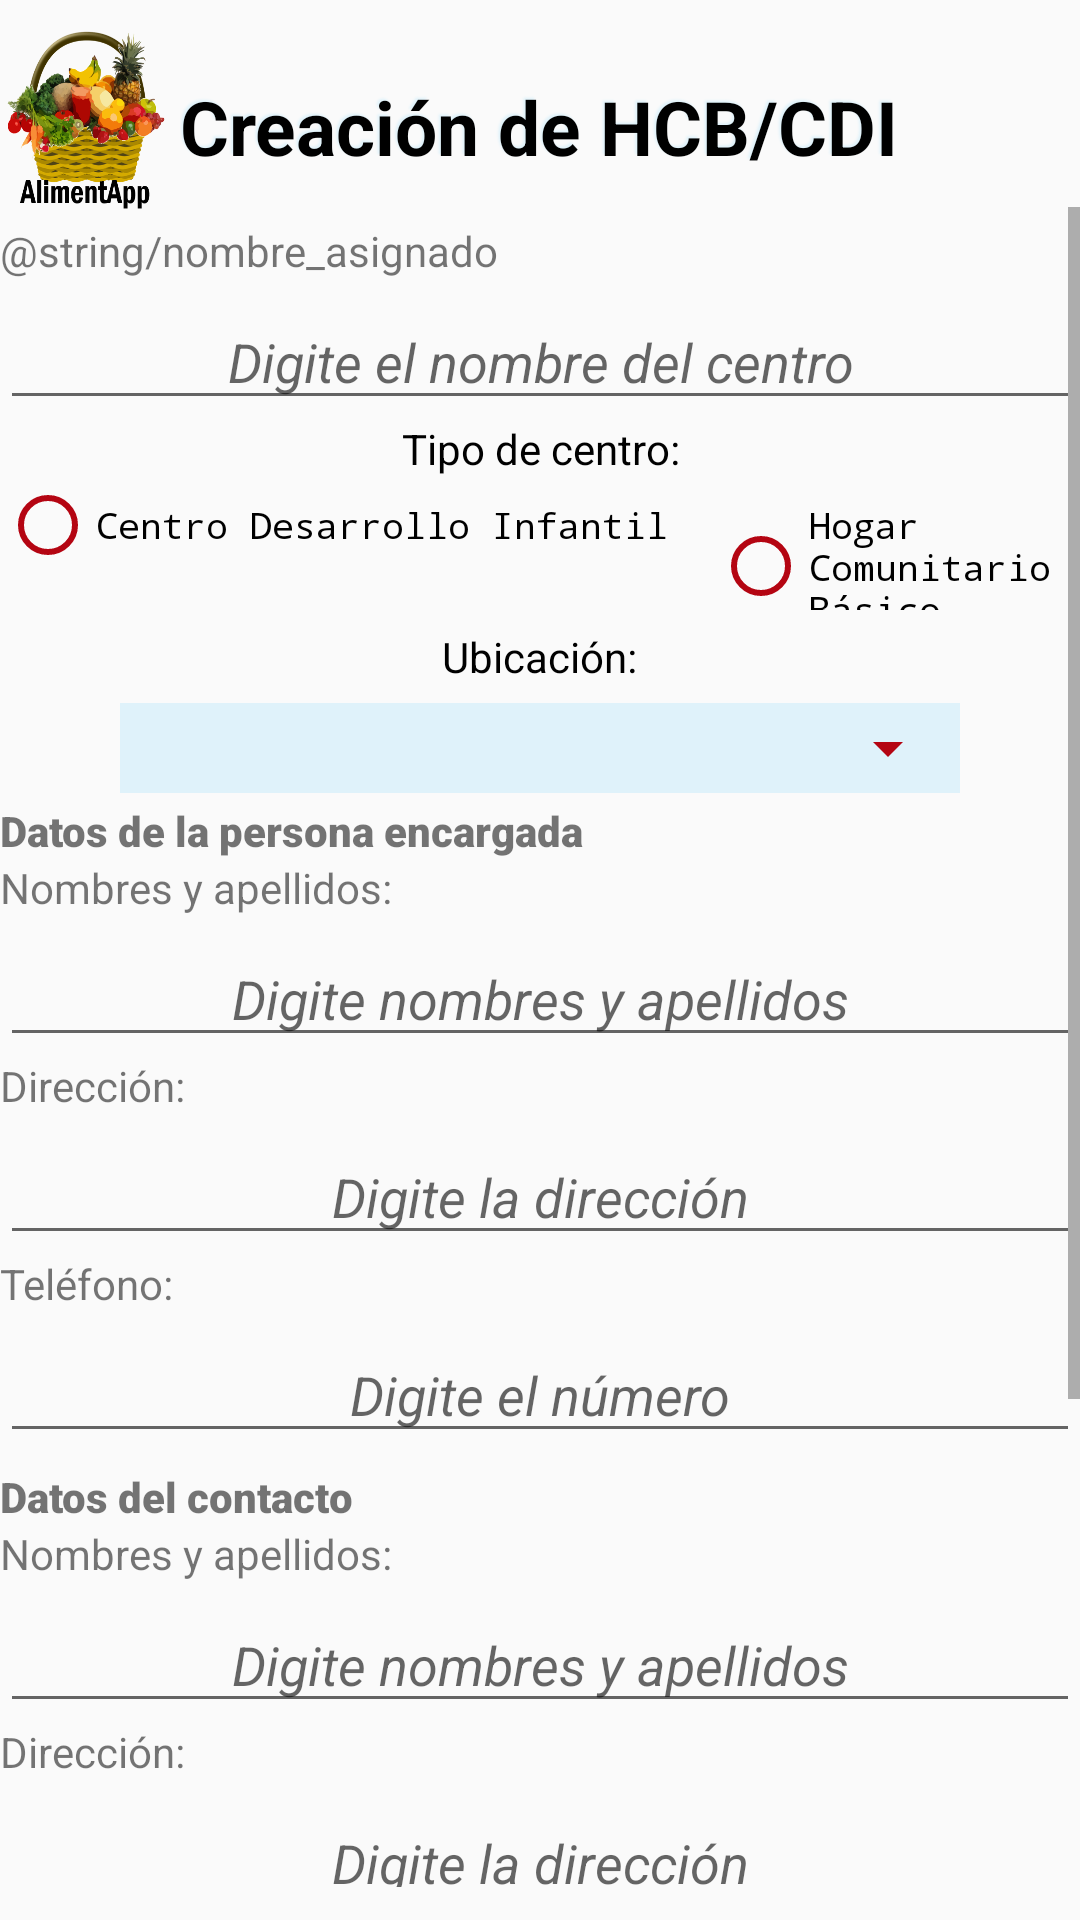

Screen size 1080 x 1920. Icon name, then its center in pixels as [x,y]:
iconosuperior: [86,120]
